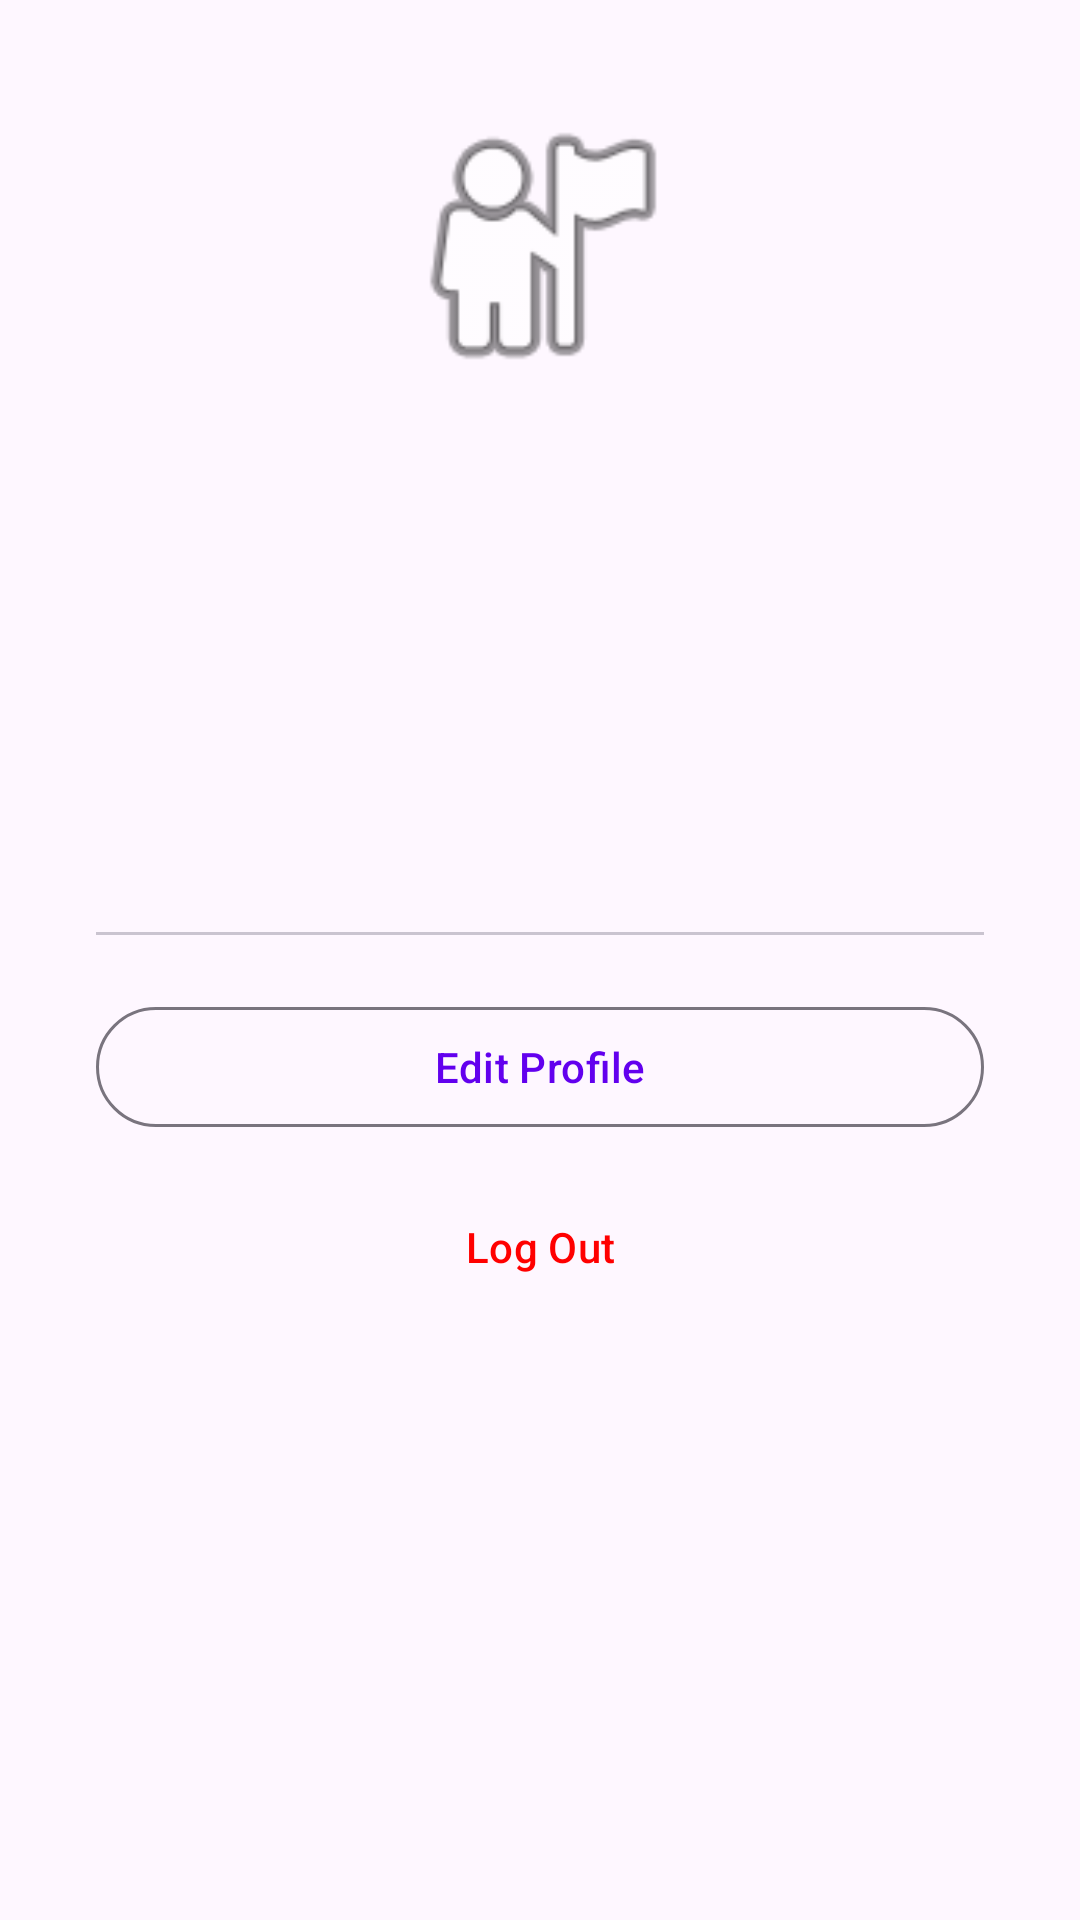

Named icons in this screenshot (1080px x 1920px) and their bounding boxes, (x1, y1, x2, y2):
Profile avatar: (430, 134, 656, 358)
